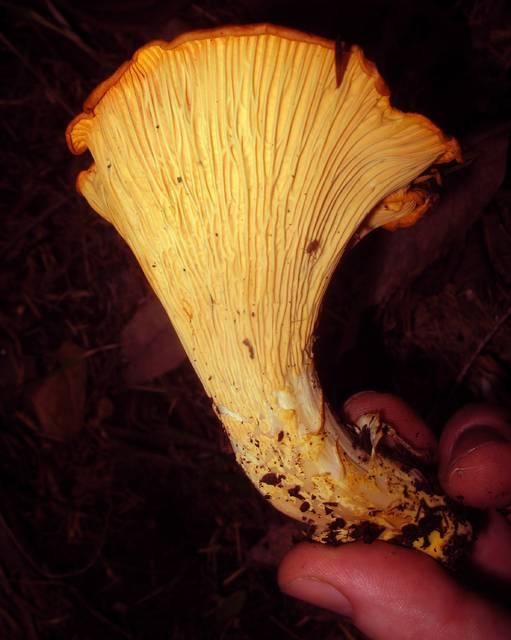edible_mushroom: (64, 21, 476, 571)
